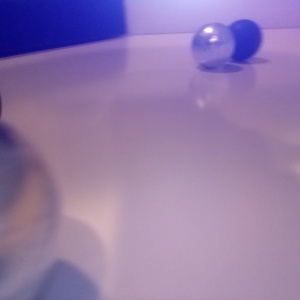alive_ball: (1, 120, 62, 300), (192, 23, 235, 67)
dead_ball: (224, 19, 262, 61)
